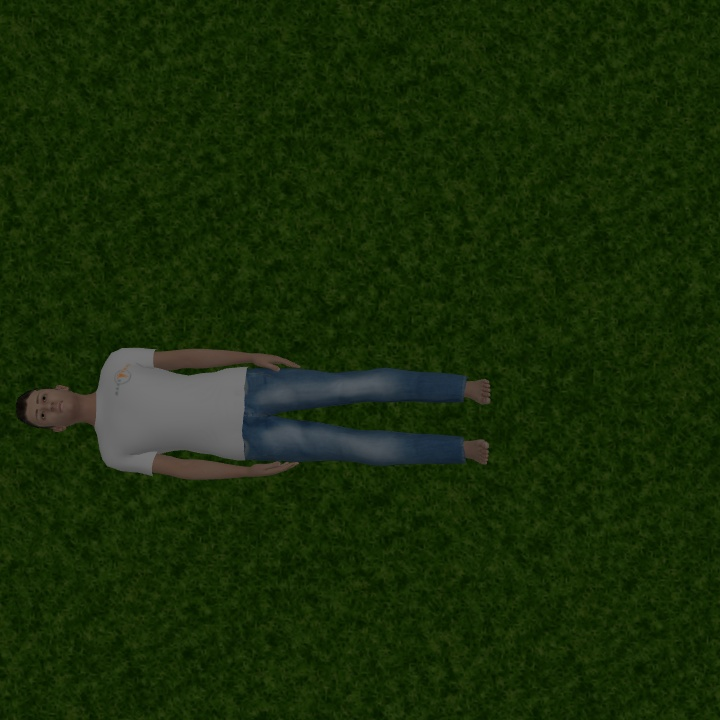victim: (11, 340, 491, 483)
